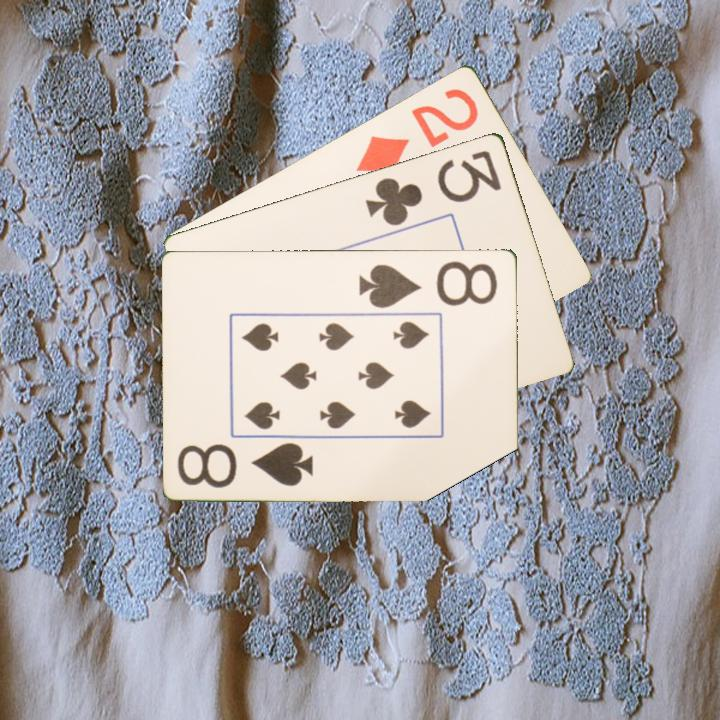2d: (352, 84, 482, 177)
3c: (362, 146, 505, 228)
8s: (355, 257, 500, 310), (174, 439, 317, 490)
